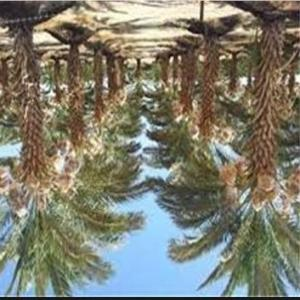palm tree: (144, 0, 299, 296), (0, 0, 150, 296)
